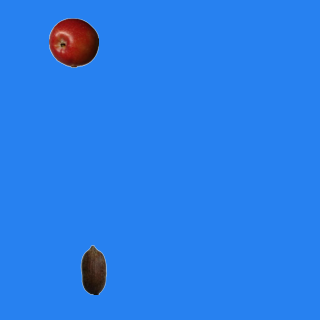Apple Braeburn: (48, 17, 98, 67)
Nut Pecan: (68, 244, 118, 294)
